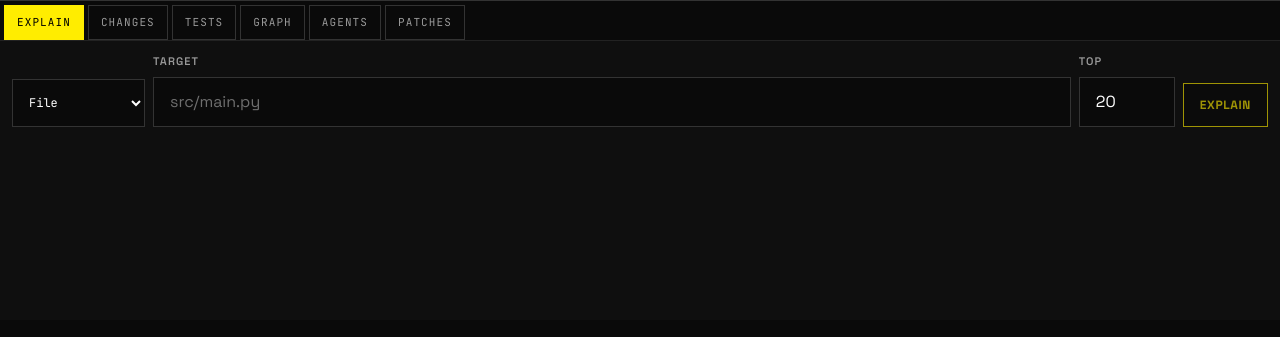
DeveloperPanel (developer intelligence) › suggests tests against the backend
This screenshot has width=1280, height=337.
Click the tab "Tests" at (204, 22), box x1=172 y1=5 x2=236 y2=40
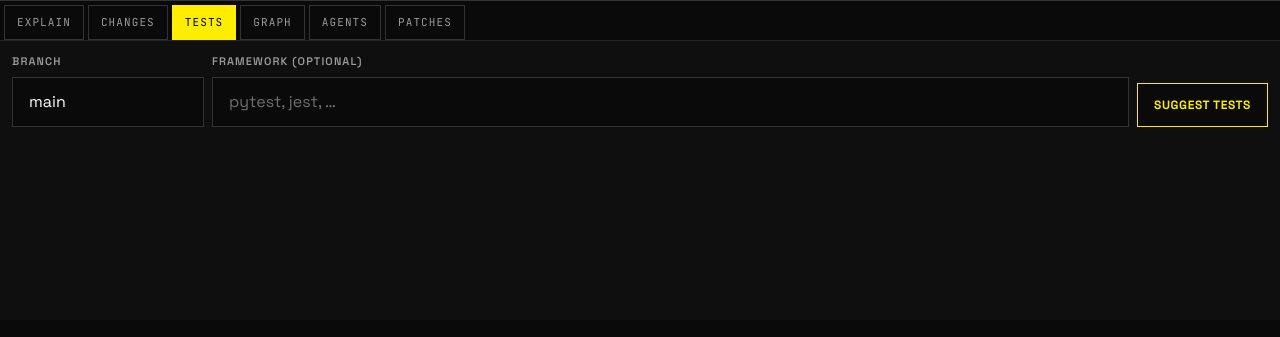
Click the button "Suggest tests" at (1202, 104), box x1=1137 y1=82 x2=1268 y2=126
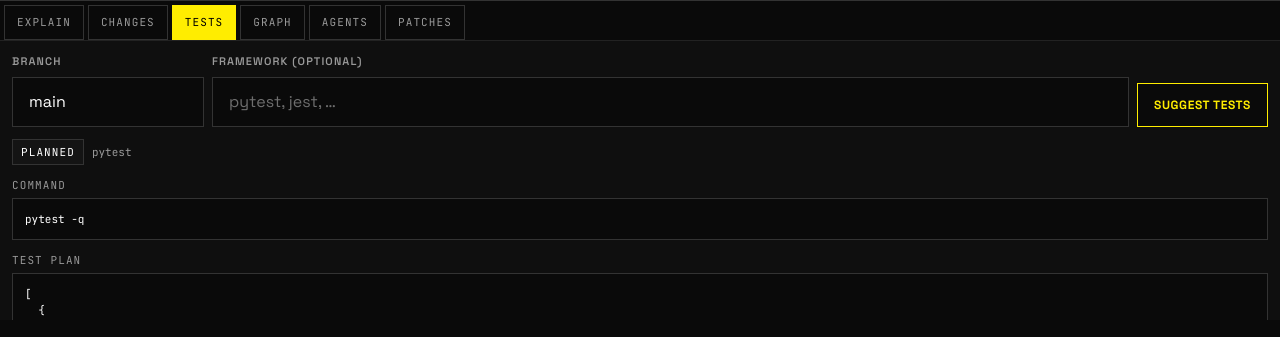
Result: the text "planned" is shown at x1=12 y1=138 x2=84 y2=165
Result: the text "pytest -q" is shown at x1=12 y1=198 x2=1268 y2=240
